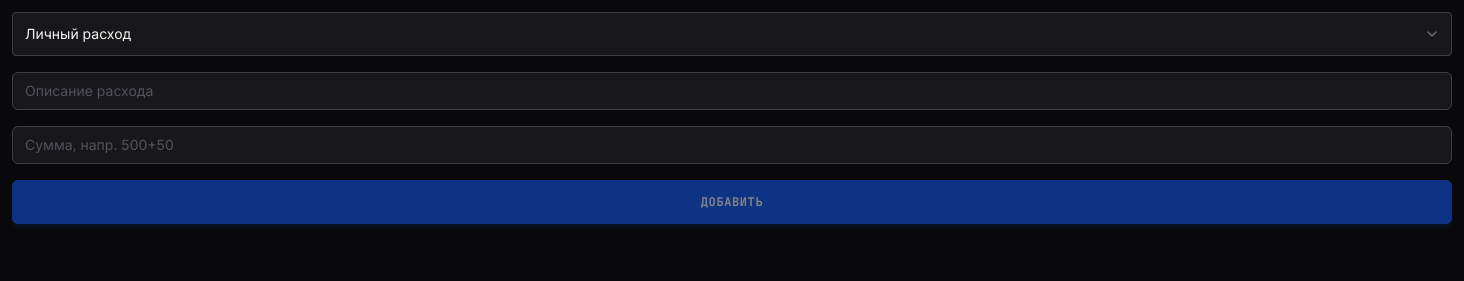
Test: ExpenseForm › updates the suggestion while typing, without blur
Type "молоко" into the field with placeholder "Описание расхода" at (732, 91), box [12,72,1452,110]
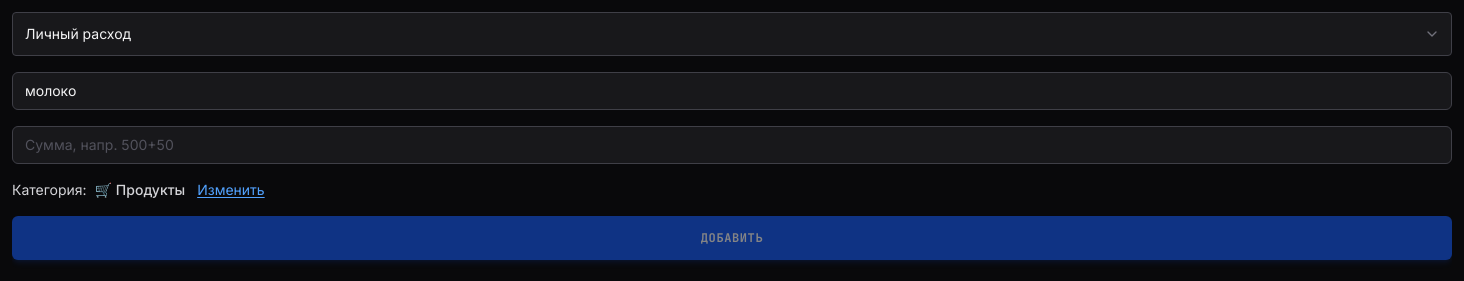
Now the text "🛒 Продукты" is shown, box [95,181,185,198]
Replace the text in the field with placeholder "Описание расхода" with "такси" at (732, 91), box [12,72,1452,110]
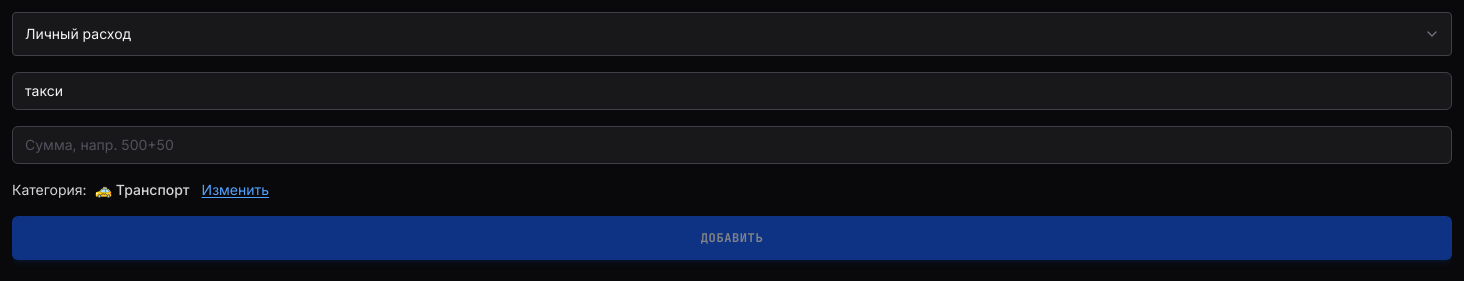
Now the text "🚕 Транспорт" is shown, box [95,181,190,198]
Now the text "🛒 Продукты" is gone
